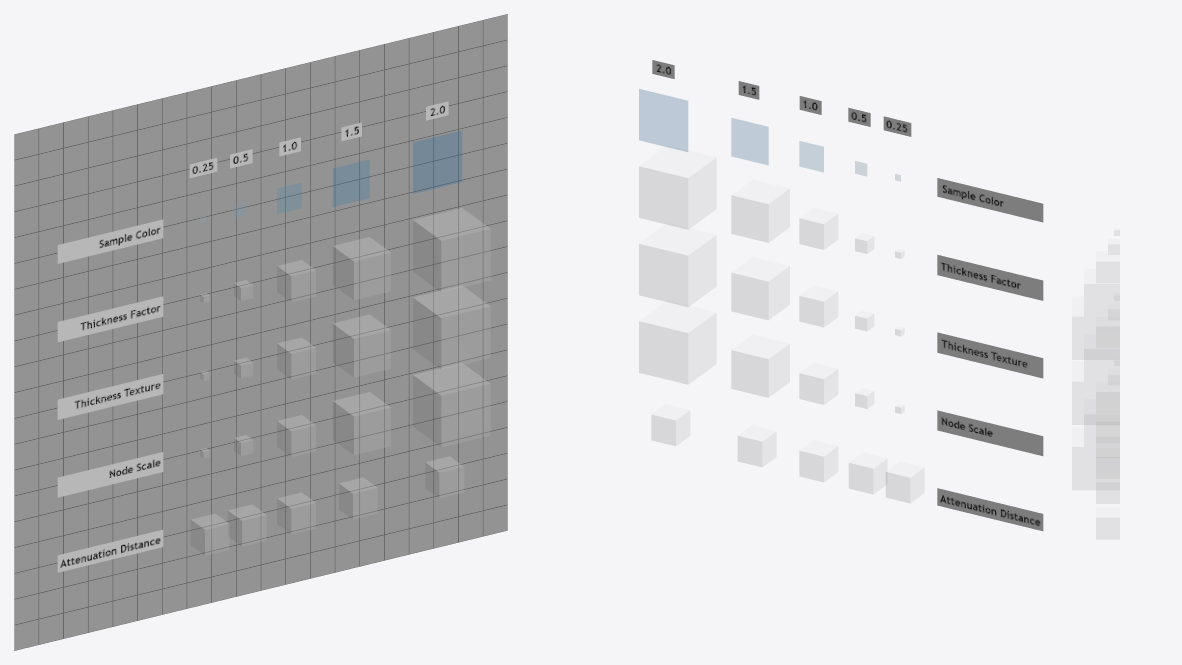
Rendered from attenuation_test.glb.
3 views of the same model, side by side, from view 1: azimuth 30°, elevation 25°; view 2: azimuth 150°, elevation 25°; view 3: azimuth 270°, elevation 25° (orthographic). The views are drawn at different scales.
Parts seen in each view (by area): view 1: MeterGrid, Labels, R3_Block_Row, R2_Block_2.0, R4_Block_2.0, R4_Block_1.5, R2_Block_1.5, R1_Sample_2.0, R1_Sample_1.5, R5_Block_0.50, R4_Block_1.0, R5_Block_1.0 (+4 smaller); view 2: Labels, R3_Block_Row, R2_Block_2.0, R4_Block_2.0, R2_Block_1.5, R4_Block_1.5, R1_Sample_2.0, R1_Sample_1.5, R5_Block_2.0, R2_Block_1.0, R4_Block_1.0, R5_Block_1.5 (+3 smaller); view 3: R3_Block_Row, R2_Block_2.0, R4_Block_2.0, R4_Block_1.5, R2_Block_1.5, R2_Block_1.0, R5_Block_2.0, R5_Block_1.5, R5_Block_1.0, R4_Block_1.0, R2_Block_0.50.
Boxes of the visible parts, <box> form: MeterGrid: <box>14,14,507,650</box>; Labels: <box>57,101,448,572</box>; R3_Block_Row: <box>200,286,490,380</box>; R2_Block_2.0: <box>413,208,490,291</box>; R4_Block_2.0: <box>413,363,490,446</box>; R4_Block_1.5: <box>333,392,390,454</box>; R2_Block_1.5: <box>333,237,390,299</box>; R1_Sample_2.0: <box>413,131,461,193</box>; R1_Sample_1.5: <box>333,160,369,206</box>; R5_Block_0.50: <box>228,505,266,546</box>; R4_Block_1.0: <box>277,415,315,456</box>; R5_Block_1.0: <box>277,493,315,534</box>; Labels: <box>652,60,1043,531</box>; R3_Block_Row: <box>639,223,904,335</box>; R2_Block_2.0: <box>639,146,716,229</box>; R4_Block_2.0: <box>639,301,716,384</box>; R2_Block_1.5: <box>731,180,789,242</box>; R4_Block_1.5: <box>731,335,789,397</box>; R1_Sample_2.0: <box>639,89,687,151</box>; R1_Sample_1.5: <box>731,118,768,164</box>; R5_Block_2.0: <box>651,404,689,445</box>; R2_Block_1.0: <box>799,208,837,249</box>; R4_Block_1.0: <box>799,363,837,404</box>; R5_Block_1.5: <box>738,425,776,466</box>; R3_Block_Row: <box>1072,293,1119,424</box>; R2_Block_2.0: <box>1072,296,1119,359</box>; R4_Block_2.0: <box>1072,427,1119,489</box>; R4_Block_1.5: <box>1084,399,1119,446</box>; R2_Block_1.5: <box>1084,269,1119,315</box>; R2_Block_1.0: <box>1096,251,1119,282</box>; R5_Block_2.0: <box>1096,508,1119,539</box>; R5_Block_1.5: <box>1096,473,1119,503</box>; R5_Block_1.0: <box>1096,447,1119,472</box>; R4_Block_1.0: <box>1096,382,1119,398</box>; R2_Block_0.50: <box>1108,239,1119,254</box>.
Size of the model in its own units: 20 by 20 by 4.
19 materials, 2 textured.
